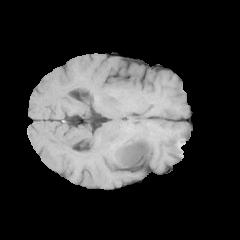glioma: (111, 135, 153, 172)
